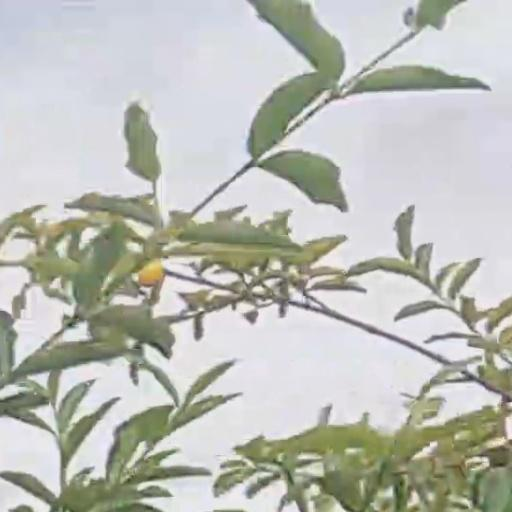acerola: (142, 259, 163, 289)
